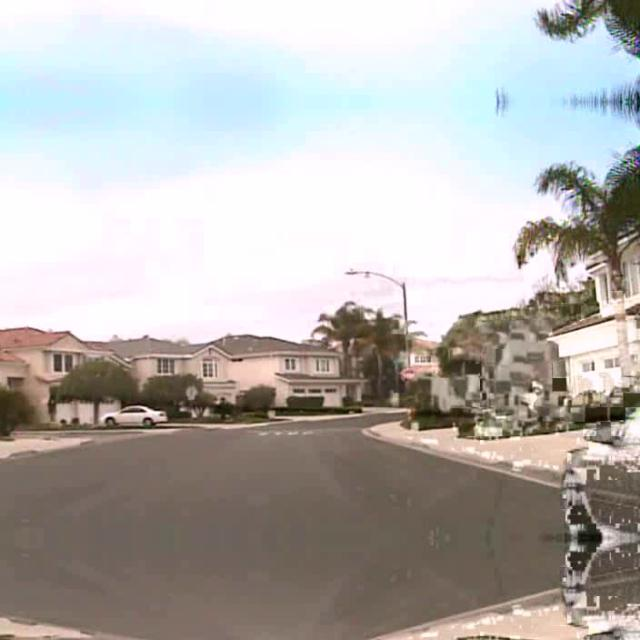stop: (400, 366, 416, 382)
